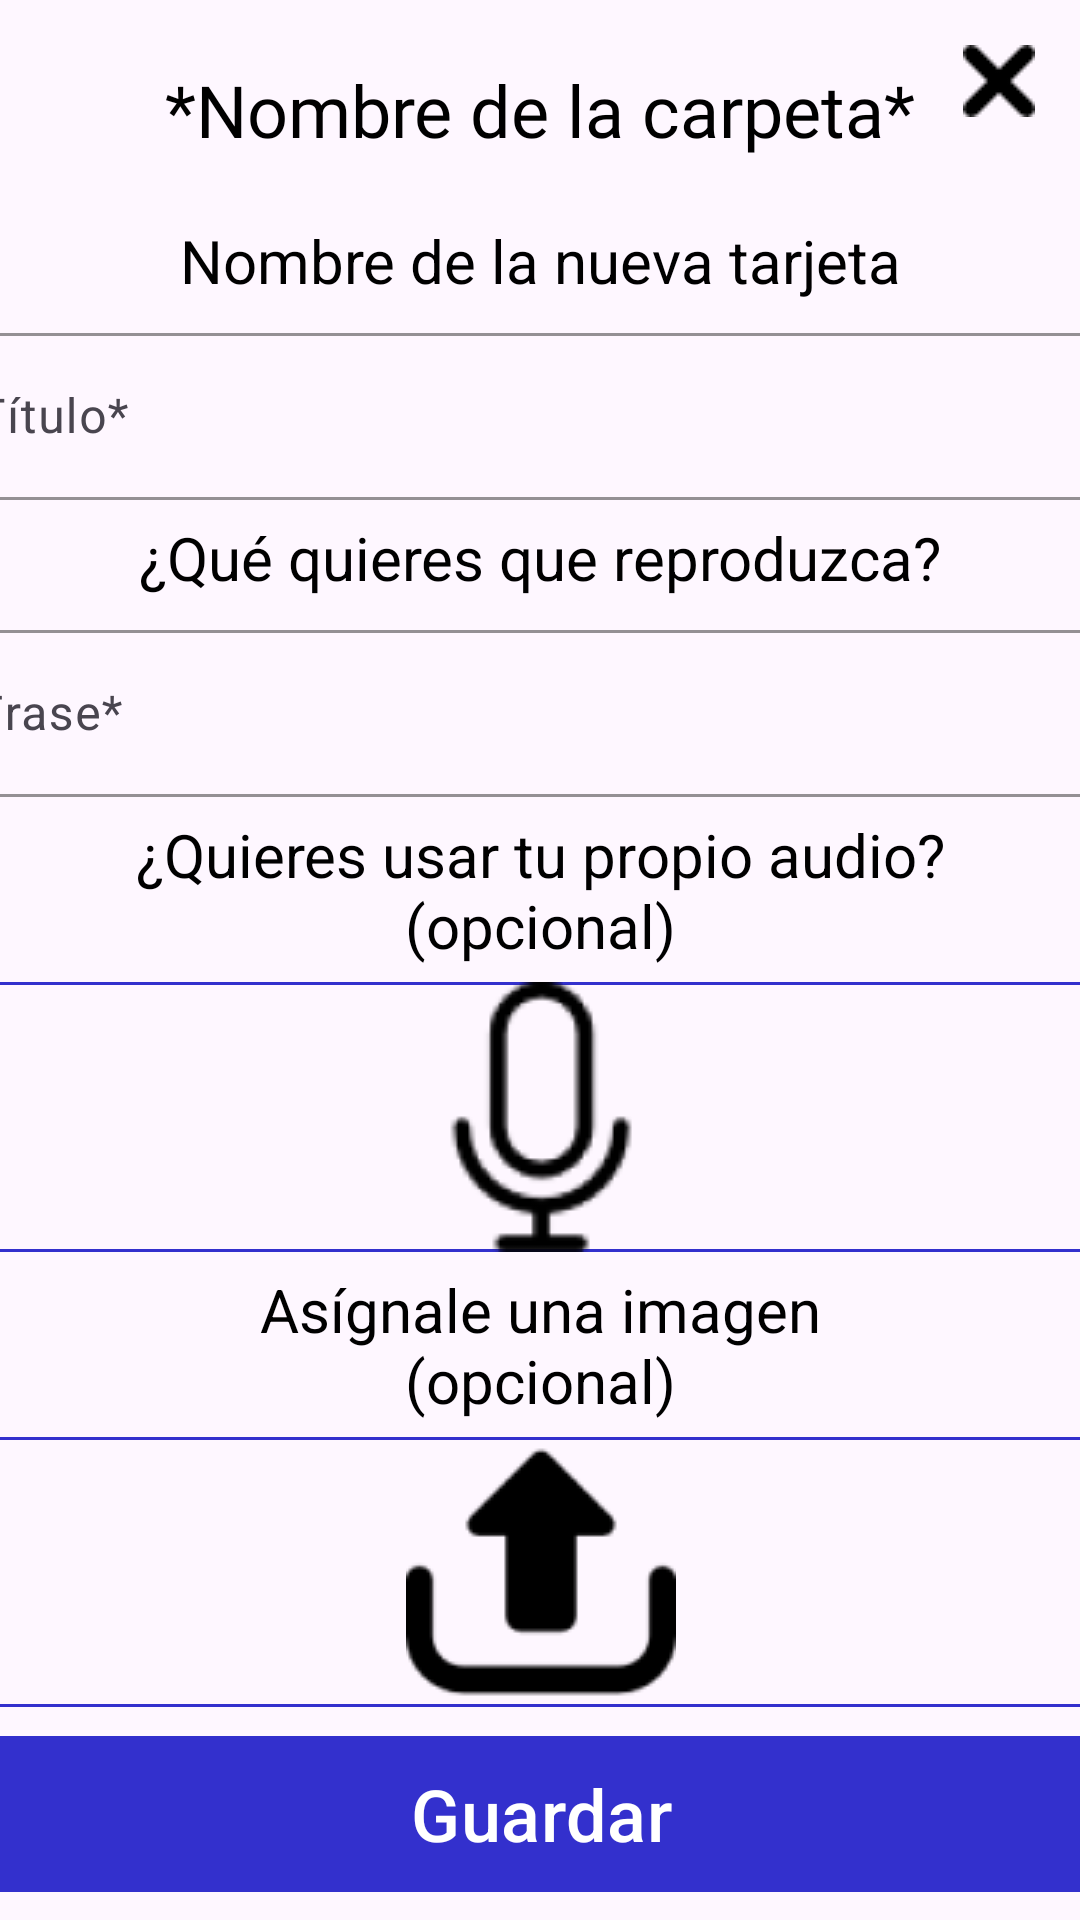

Icons on this 1080x1920 Android screen, each with its box as (x1, y1, x2, y2):
close: (963, 45, 1035, 117)
